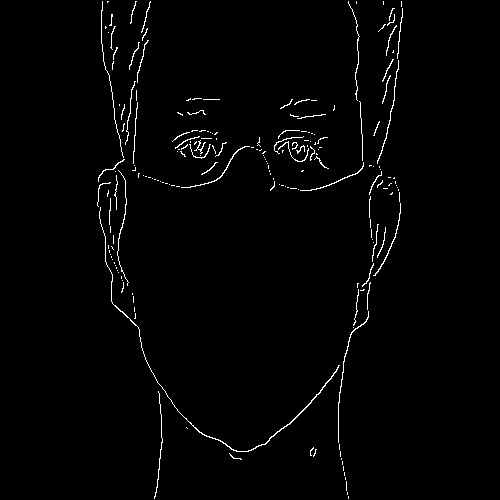mask: (96, 155, 399, 463)
